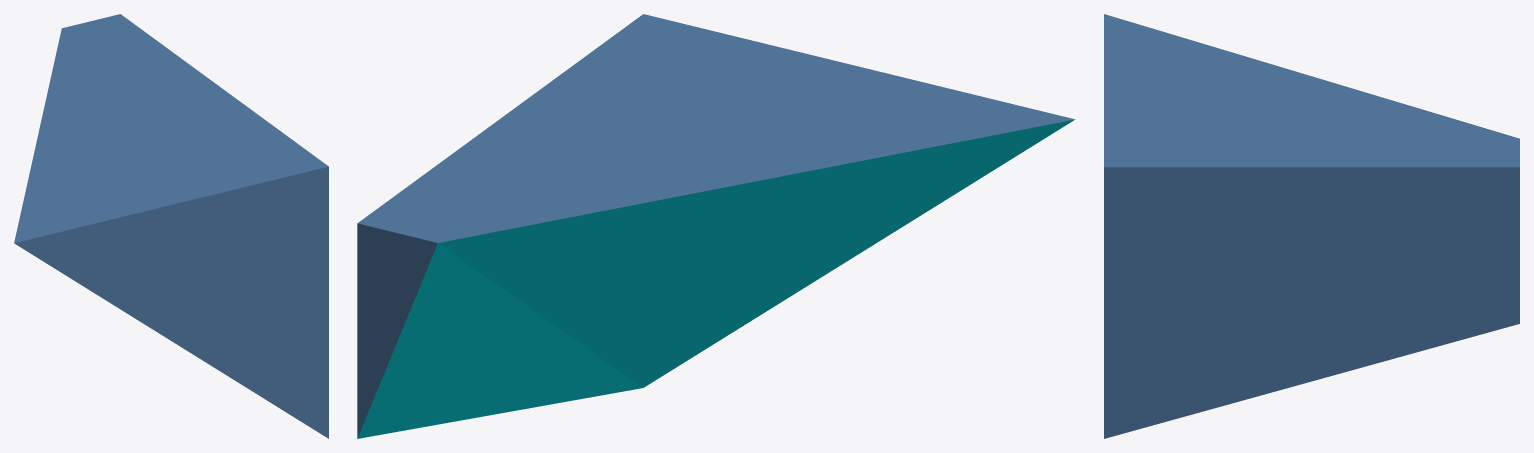
Rendered from right.fbx.
The picture shows the model from 3 angles, left to right: view 1: azimuth 30°, elevation 25°; view 2: azimuth 150°, elevation 25°; view 3: azimuth 270°, elevation 25°; orthographic projection. The views are drawn at different scales.
Parts seen in each view (by area): view 1: right; view 2: right; view 3: right.
Boxes of the visible parts, x1,y1,x2,y2 form: right: (14, 14, 328, 438); right: (357, 14, 1075, 438); right: (1104, 14, 1519, 438).
Size of the model in its own units: 50.88 by 42.08 by 58.33.
